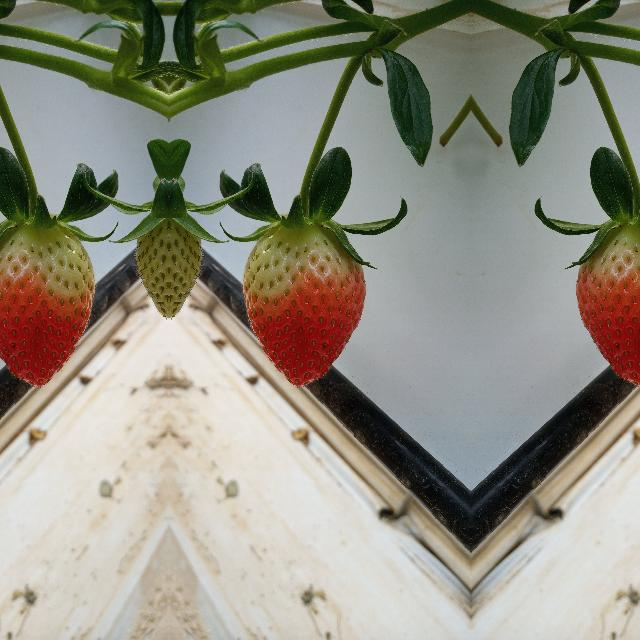Health_100: (240, 223, 366, 389), (0, 223, 96, 389), (575, 223, 640, 389)
Health_25: (168, 207, 208, 335), (128, 207, 168, 335)
